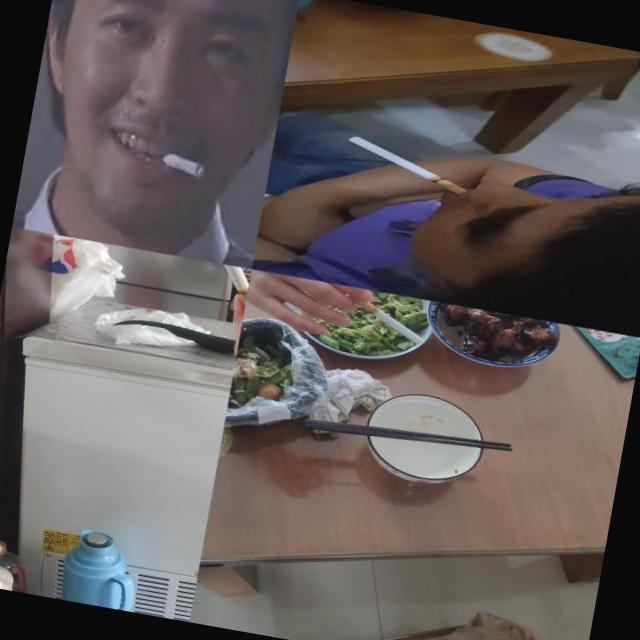cigarette: (340, 134, 470, 195), (339, 292, 428, 346), (186, 259, 252, 320), (156, 148, 207, 178)
